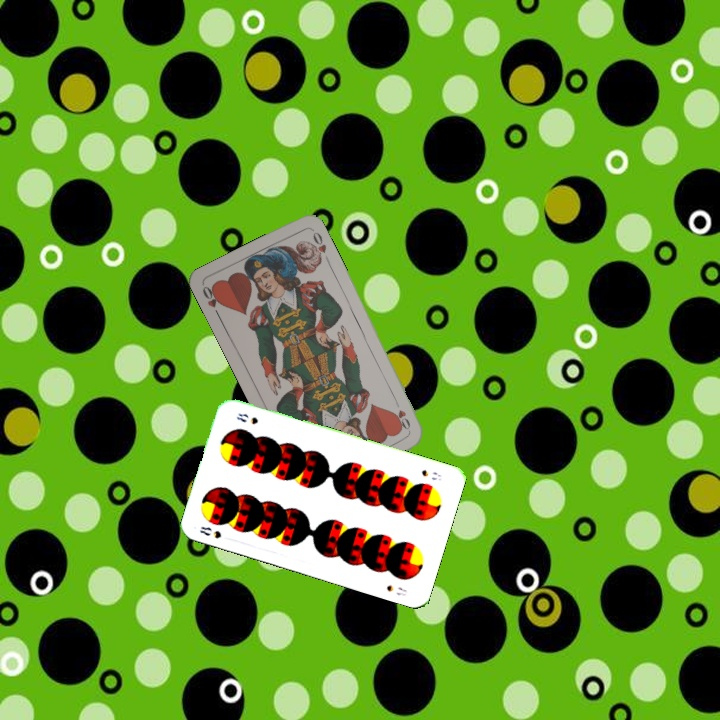HO: (198, 282, 225, 320), (391, 396, 413, 434)
S8: (196, 522, 224, 541), (417, 466, 444, 483)
